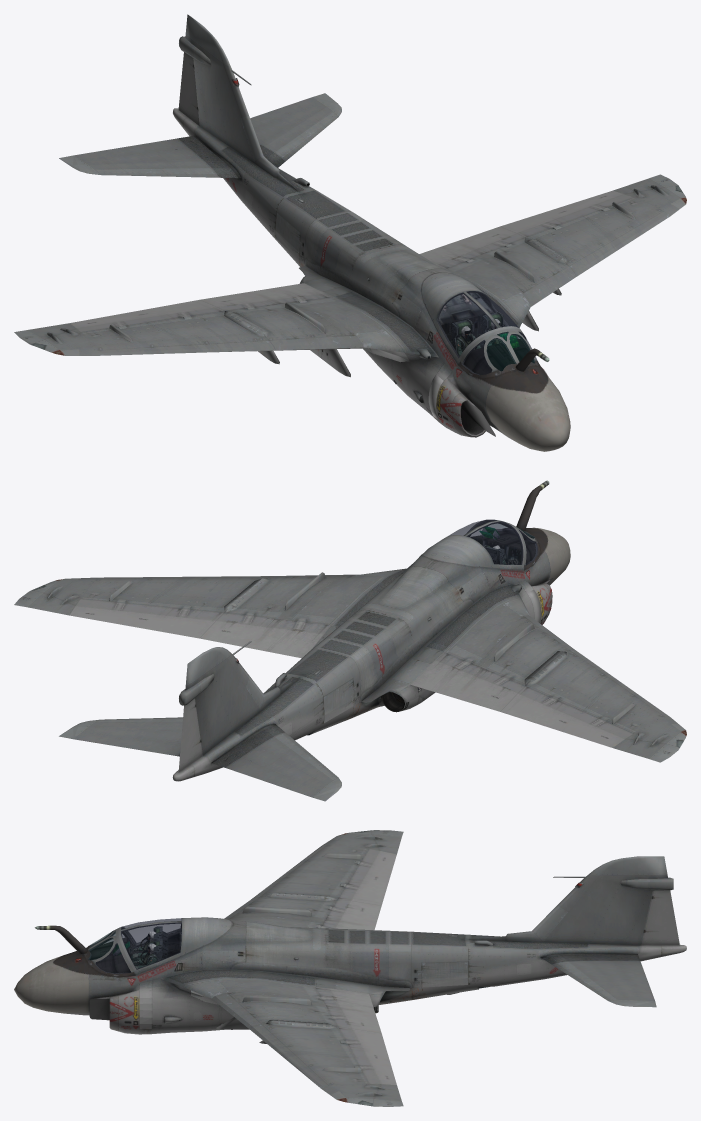
File: A-6_Intruder.obj
The picture shows the model from 3 angles, top to bottom: view 1: azimuth 30°, elevation 25°; view 2: azimuth 150°, elevation 25°; view 3: azimuth 270°, elevation 25°; orthographic projection. The views are drawn at different scales.
Parts seen in each view (by area): view 1: A-6_.025, A-6_.018, A-6_.017, A-6_.022, A-6_.012, A-6_.021, A-6_.031, A-6_.019, A-6_.020, A-6_, A-6_.001, A-6_.032 (+6 smaller); view 2: A-6_.025, A-6_.018, A-6_.017, A-6_.019, A-6_.020, A-6_, A-6_.001, A-6_.012, A-6_.022, A-6_.028, A-6_.004, A-6_.009 (+5 smaller); view 3: A-6_.025, A-6_.017, A-6_.022, A-6_.012, A-6_.028, A-6_.019, A-6_.001, A-6_, A-6_.006, A-6_.020, A-6_.021, A-6_.029 (+6 smaller).
Part boxes in pixels (<box>): A-6_.025: <box>14,14,686,451</box>; A-6_.018: <box>59,136,237,178</box>; A-6_.017: <box>250,93,341,167</box>; A-6_.022: <box>437,291,519,357</box>; A-6_.012: <box>421,272,521,364</box>; A-6_.021: <box>462,332,537,374</box>; A-6_.031: <box>97,340,275,355</box>; A-6_.019: <box>419,226,517,265</box>; A-6_.020: <box>200,283,323,306</box>; A-6_: <box>500,190,624,233</box>; A-6_.001: <box>69,300,216,328</box>; A-6_.032: <box>269,334,363,350</box>; A-6_.025: <box>14,480,686,781</box>; A-6_.018: <box>212,725,341,801</box>; A-6_.017: <box>59,717,182,756</box>; A-6_.019: <box>200,620,323,658</box>; A-6_.020: <box>410,661,517,711</box>; A-6_: <box>69,605,216,638</box>; A-6_.001: <box>500,693,625,747</box>; A-6_.012: <box>421,519,524,570</box>; A-6_.022: <box>449,520,522,564</box>; A-6_.028: <box>178,698,202,772</box>; A-6_.004: <box>76,599,223,619</box>; A-6_.009: <box>518,686,632,738</box>; A-6_.025: <box>14,830,686,1106</box>; A-6_.017: <box>542,954,656,1007</box>; A-6_.022: <box>121,918,181,969</box>; A-6_.012: <box>118,917,232,974</box>; A-6_.028: <box>640,890,679,945</box>; A-6_.019: <box>329,988,381,1033</box>; A-6_.001: <box>351,850,396,905</box>; A-6_: <box>351,1028,396,1085</box>; A-6_.006: <box>414,961,468,987</box>; A-6_.020: <box>335,901,381,930</box>; A-6_.021: <box>88,931,131,973</box>; A-6_.029: <box>249,1024,327,1088</box>.
Bounding box in the file's own units: 16.1 × 4.5 × 16.57.
